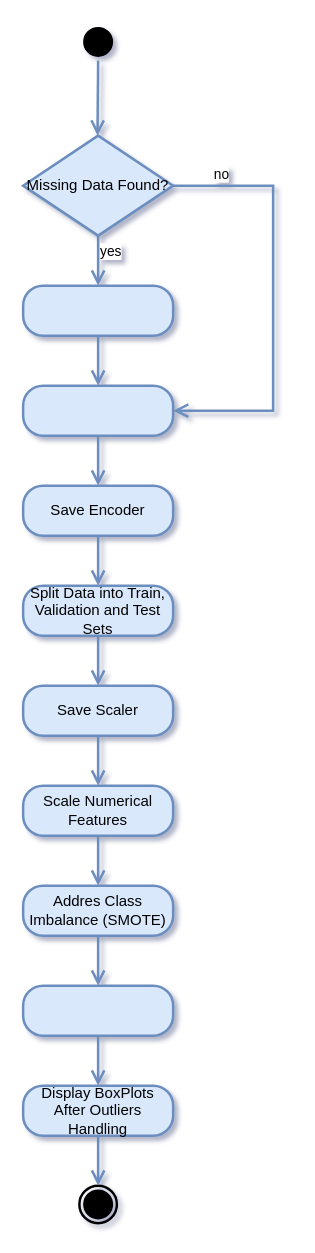
Image size: 315x1253. Some labels were removed from this diagram. The centre of each missing label's shape, as x and y in pixels:
"Encode Categorical Features" goes at pixel 97 410.
"Handle Missing Values" goes at pixel 97 310.
"Handle Outliers" goes at pixel 97 1010.
